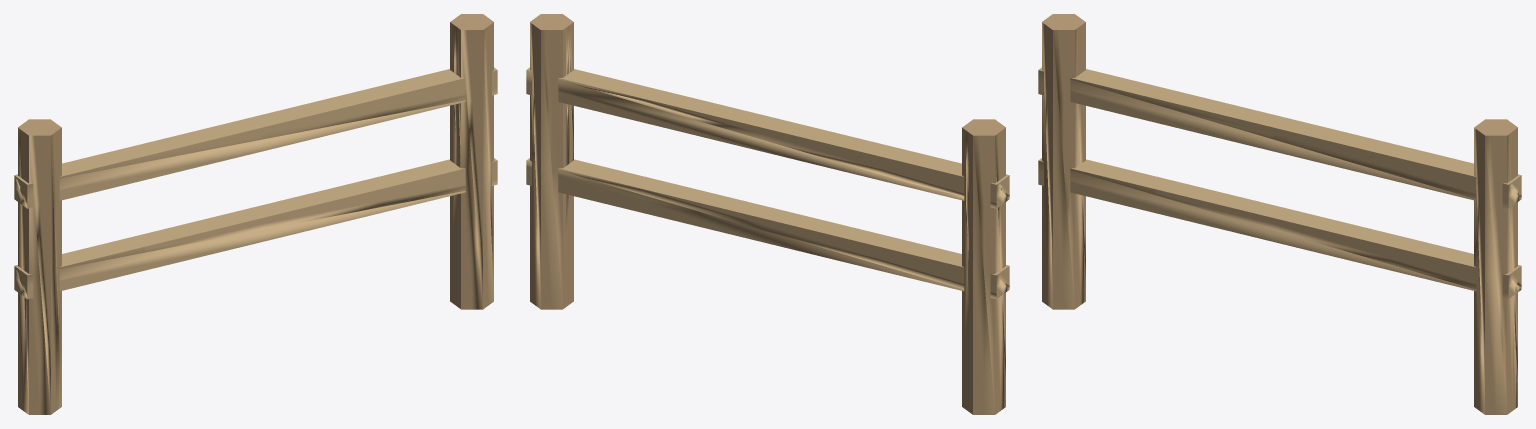
File: fence.glb
The picture shows the model from 3 angles, left to right: view 1: azimuth 30°, elevation 25°; view 2: azimuth 150°, elevation 25°; view 3: azimuth 330°, elevation 25°; orthographic projection.
Parts seen in each view (by area): view 1: FencePostL; view 2: FencePostL; view 3: FencePostL.
Boxes of the visible parts, x1,y1,x2,y2 form: FencePostL: (14,14,497,414); FencePostL: (526,14,1009,414); FencePostL: (1038,14,1521,414).
Bounding box in the file's own units: 1.85 × 1.05 × 0.15.
